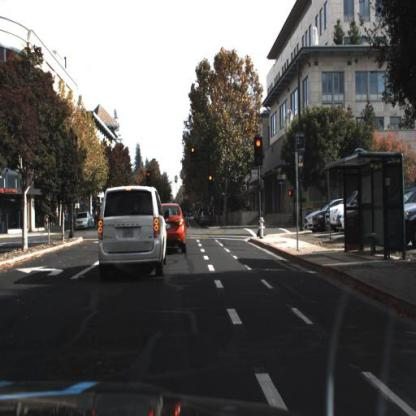car: (89, 182, 169, 280), (161, 197, 188, 254), (323, 200, 350, 231), (71, 208, 92, 232)
trafficLight-Red: (250, 132, 264, 172), (206, 170, 216, 192), (190, 141, 198, 167)
trafficLight-RedLeft: (144, 166, 153, 182)
